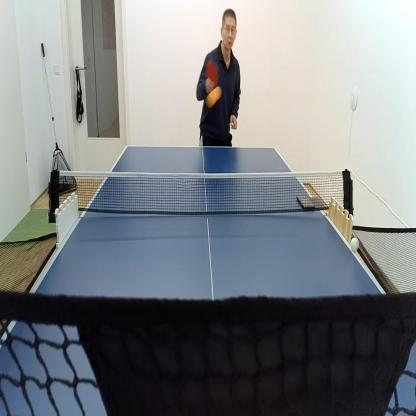Ball: (206, 85, 222, 108), (350, 236, 360, 253)
